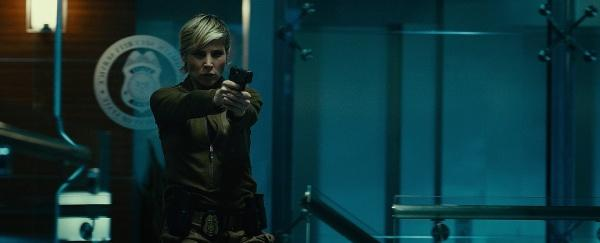Gun: (228, 64, 253, 90)
